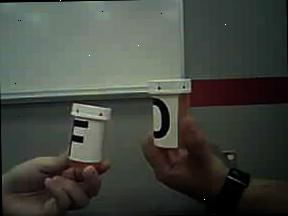Bottle D: (146, 76, 194, 150)
Bottle F: (68, 98, 113, 172)
